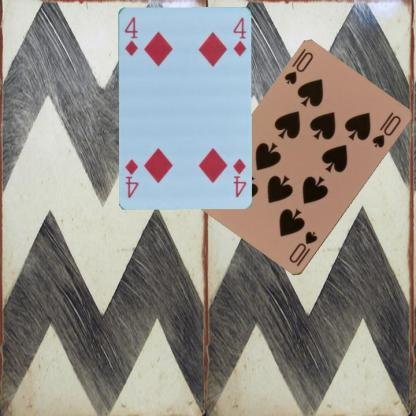10s: (286, 228, 319, 269), (282, 49, 315, 87)
4d: (122, 14, 140, 57), (230, 156, 248, 198)
